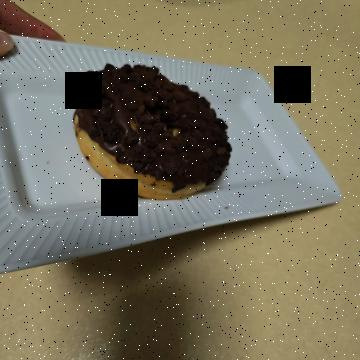doughnut: (29, 114, 200, 293)
